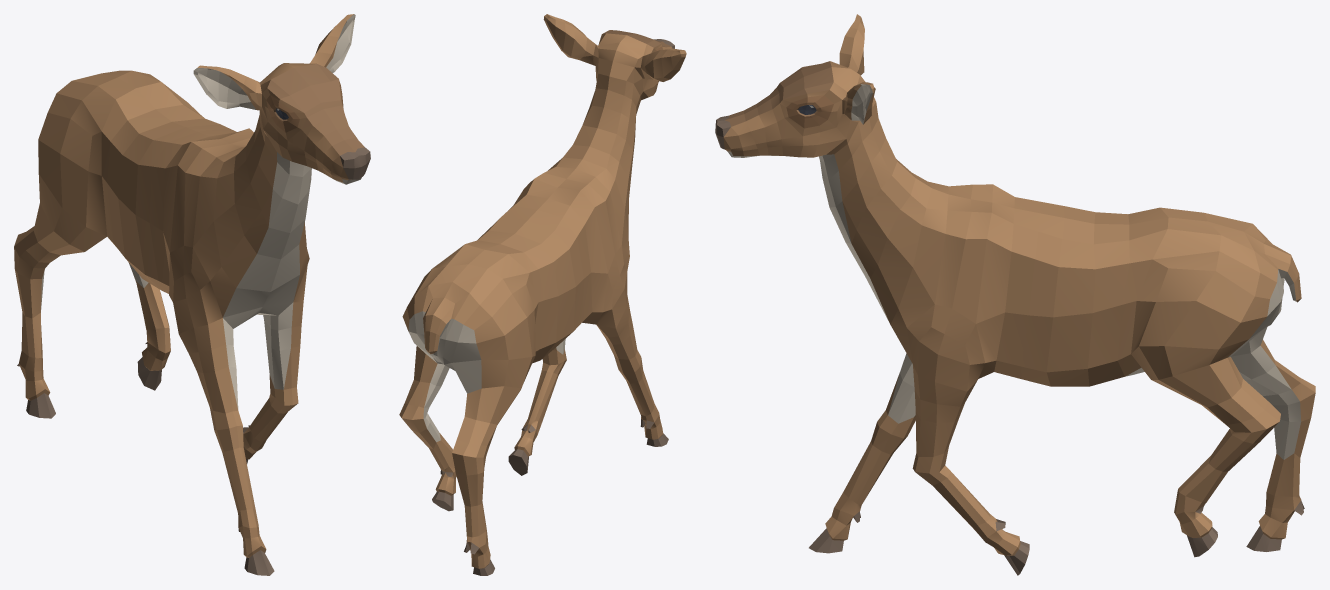
File: deer.glb
The picture shows the model from 3 angles, left to right: view 1: azimuth 30°, elevation 25°; view 2: azimuth 150°, elevation 25°; view 3: azimuth 270°, elevation 25°; orthographic projection. The views are drawn at different scales.
Parts seen in each view (by area): view 1: deer; view 2: deer; view 3: deer.
Boxes of the visible parts, x1,y1,x2,y2 form: deer: (14, 14, 370, 575); deer: (399, 14, 686, 575); deer: (715, 14, 1315, 575).
Bounding box in the file's own units: 0.0517 × 0.15 × 0.157.
